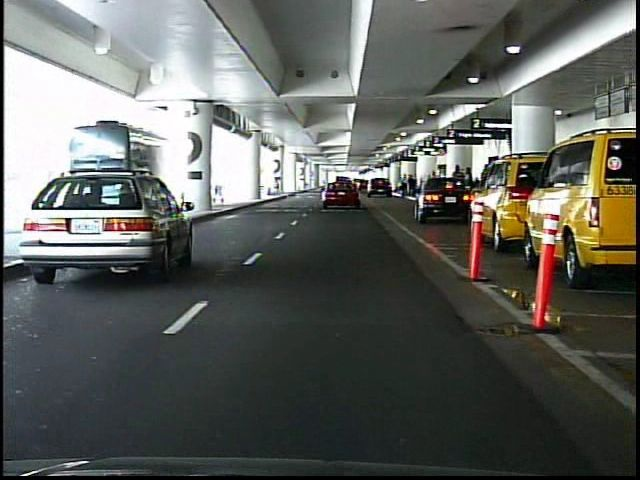person: (450, 163, 467, 209), (463, 165, 477, 210), (401, 172, 409, 196), (408, 173, 416, 196)
